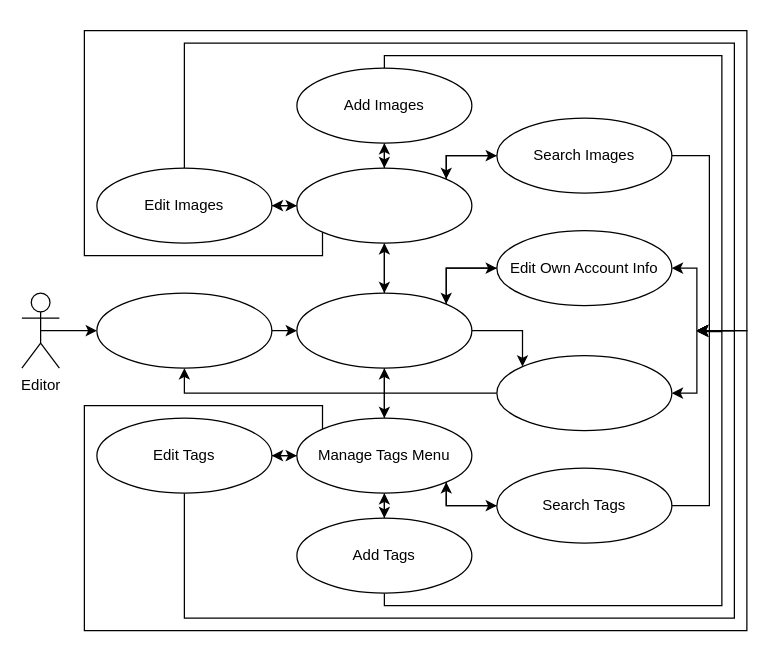
The diagram is 779 pixels wide and 663 high, and some of its shapes have lost their labels. The centre of each missing label's shape, as x and y in pixels:
Log In: the point at 184,330
Log Out: the point at 584,392
Main Menu: the point at 384,330
Manage Images Menu: the point at 384,205
